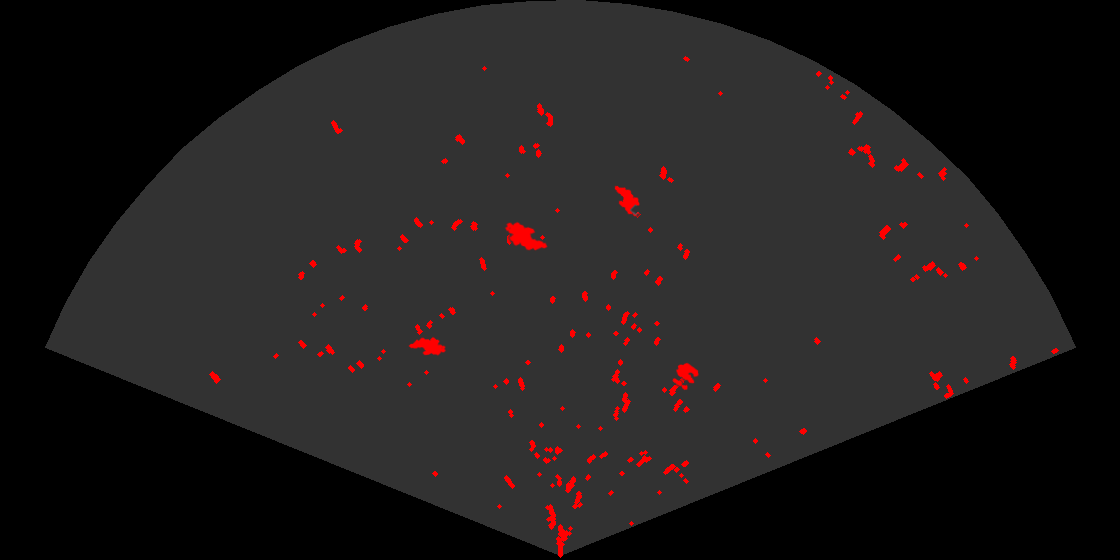AUV: (503, 220, 549, 252), (613, 184, 641, 218), (407, 335, 448, 357)
ball: (671, 361, 700, 392)
